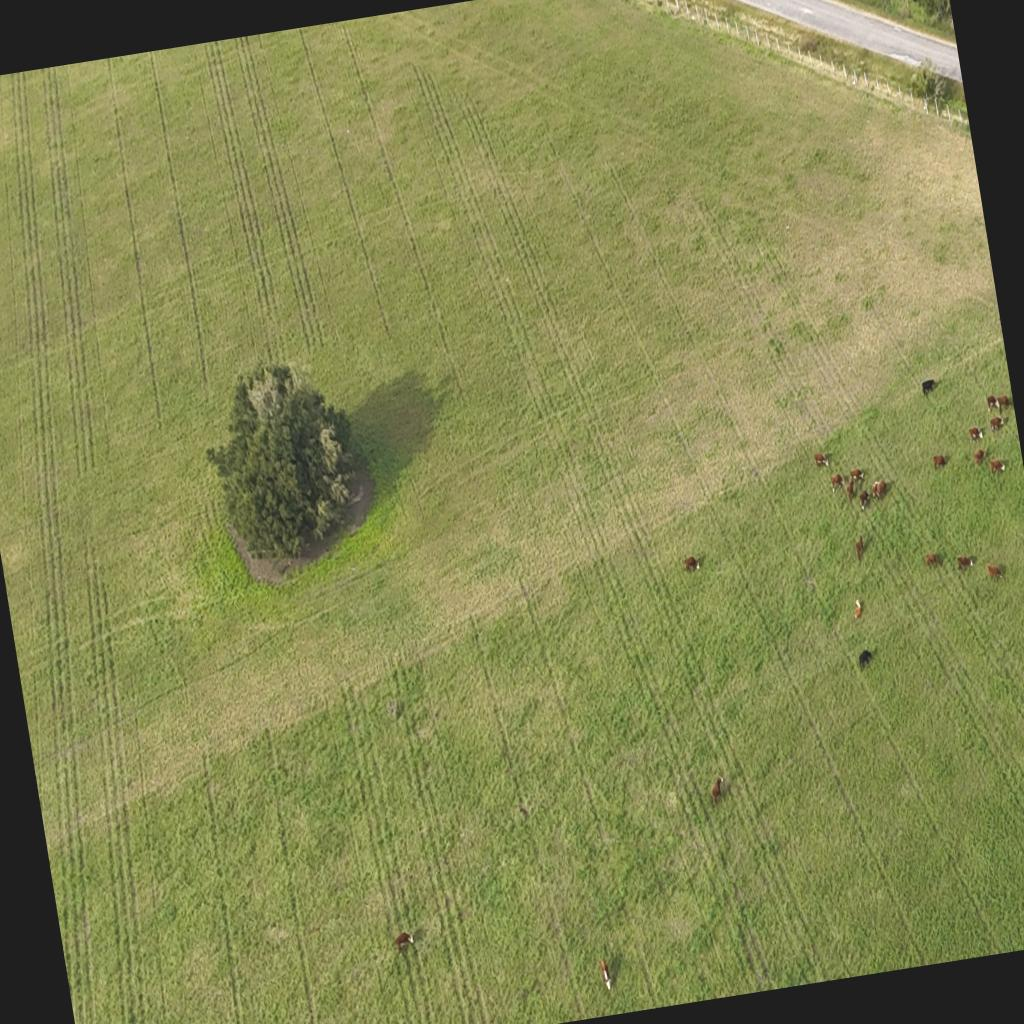cow: (393, 928, 420, 958), (597, 956, 615, 994), (708, 775, 726, 804), (994, 392, 1014, 414), (843, 476, 859, 502), (856, 647, 874, 670), (986, 562, 1006, 582), (853, 534, 866, 564), (956, 554, 976, 572), (683, 554, 701, 574), (988, 458, 1006, 476), (920, 378, 937, 397), (972, 448, 988, 468), (988, 414, 1004, 434), (868, 476, 880, 502), (829, 473, 845, 492), (968, 425, 984, 444), (876, 478, 890, 499), (858, 489, 872, 510), (848, 467, 865, 484), (986, 394, 1002, 412), (851, 598, 864, 620), (924, 552, 940, 568), (814, 452, 828, 470), (932, 453, 946, 469)
